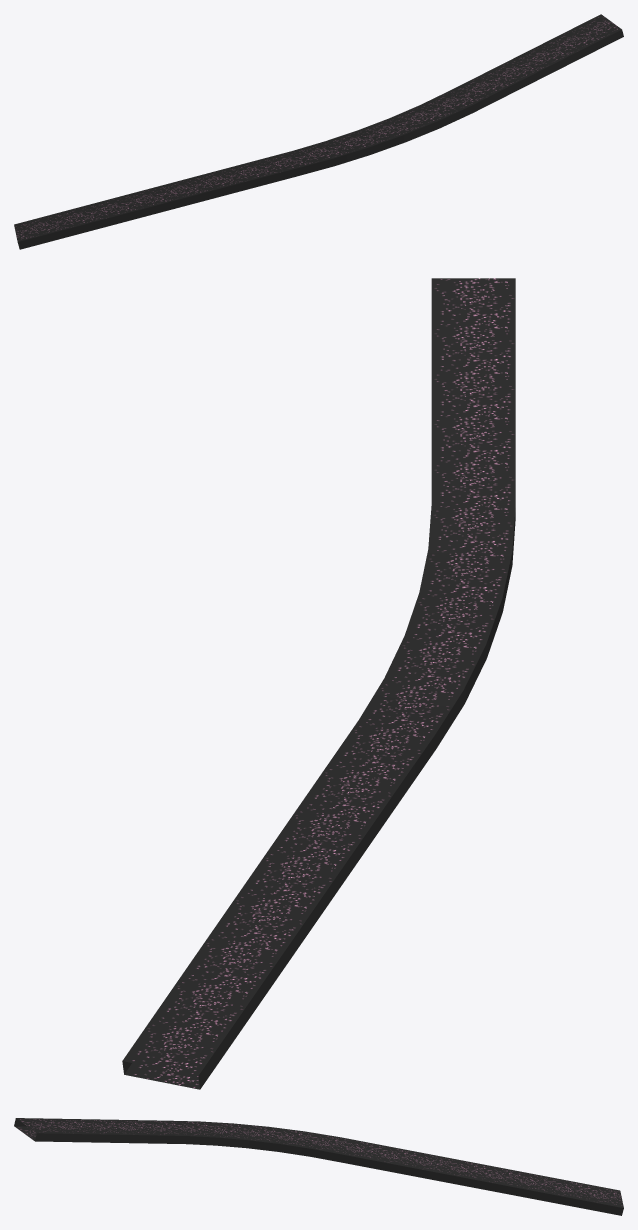
Rendered from OBJ_CourseSpring_testfloor4_3.fbx.
3 renders of one model, top to bottom at view 1: azimuth 90°, elevation 25°; view 2: azimuth 150°, elevation 25°; view 3: azimuth 270°, elevation 25°, orthographic. The views are drawn at different scales.
Visible parts, largest first — view 1: polySurface10; view 2: polySurface10; view 3: polySurface10.
Part boxes in pixels (x1,y1,x2,y2): polySurface10: [14, 14, 623, 249]; polySurface10: [122, 278, 515, 1089]; polySurface10: [14, 1118, 623, 1215].
Bounding box in the file's own units: 23.25 × 18.97 × 69.77.
Materials: 1 (1 with a texture image).
